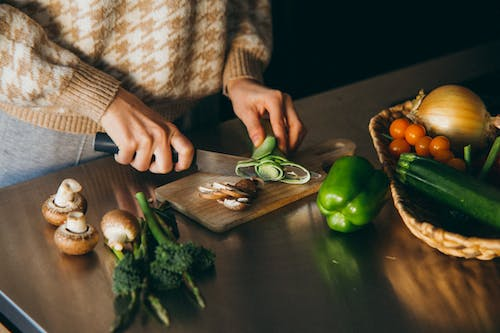knife: (92, 130, 323, 181)
